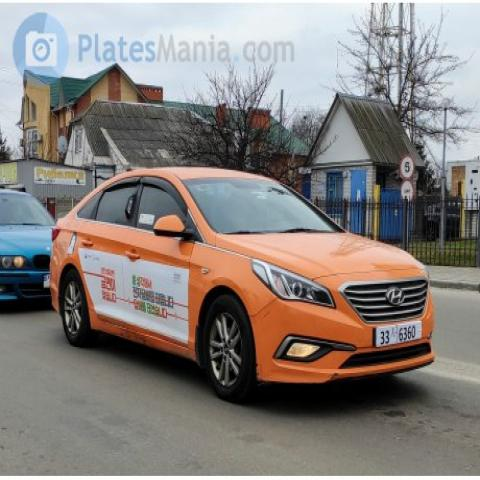LP: (373, 314, 431, 356)
